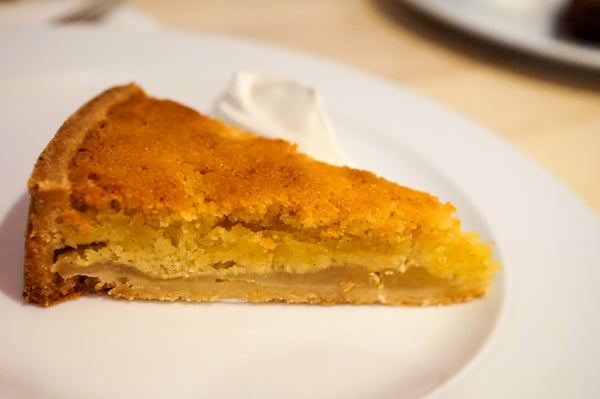curry: (3, 2, 597, 396)
sushi: (11, 82, 490, 309)
